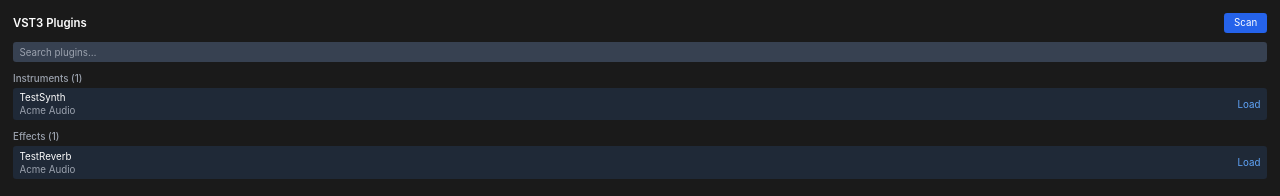
Test: PluginBrowser › search input filters plugins by name
The image size is (1280, 196).
Type "Synth" into the field labelled "Search plugins…" at (640, 52), box [13,42,1267,62]
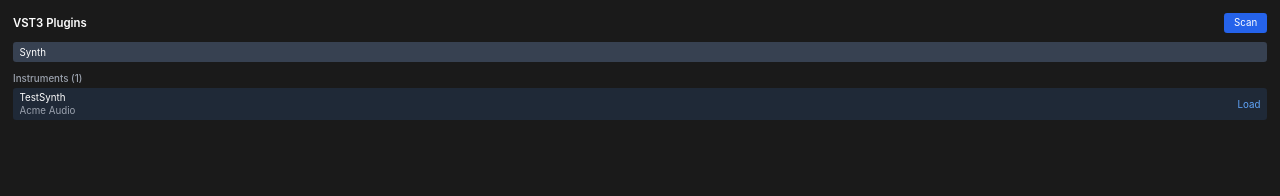
Expected: the text "TestSynth" is shown, [20,92,66,103]
Expected: the text "TestReverb" is gone
